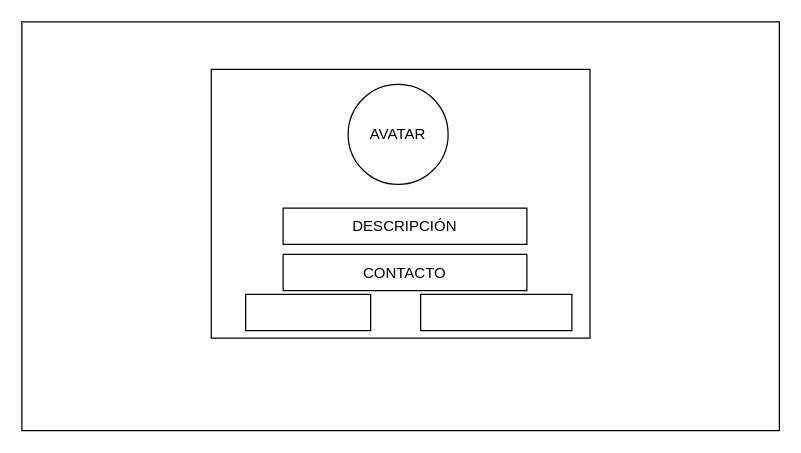
The diagram is 801 pixels wide and 453 high, and some of its shapes have lost their labels. Here are the shapes that lost their labels. From the top down, the box of each, then its label:
(244, 293, 371, 331): EDUCACION
(419, 293, 572, 331): EXPERIENCIA
